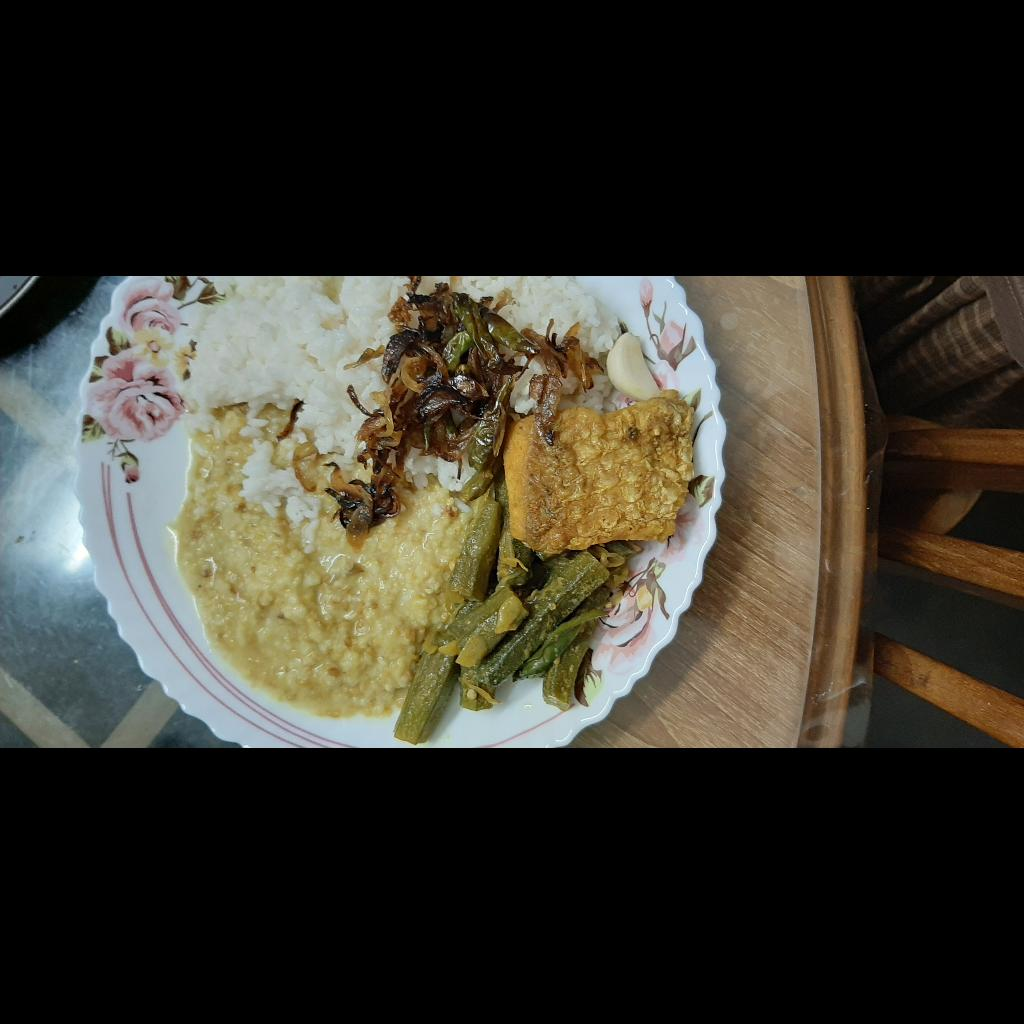daal: (24, 446, 337, 764)
fish: (194, 776, 351, 970)
okra: (2, 662, 253, 892)
rice: (201, 457, 472, 694), (339, 727, 470, 905)
